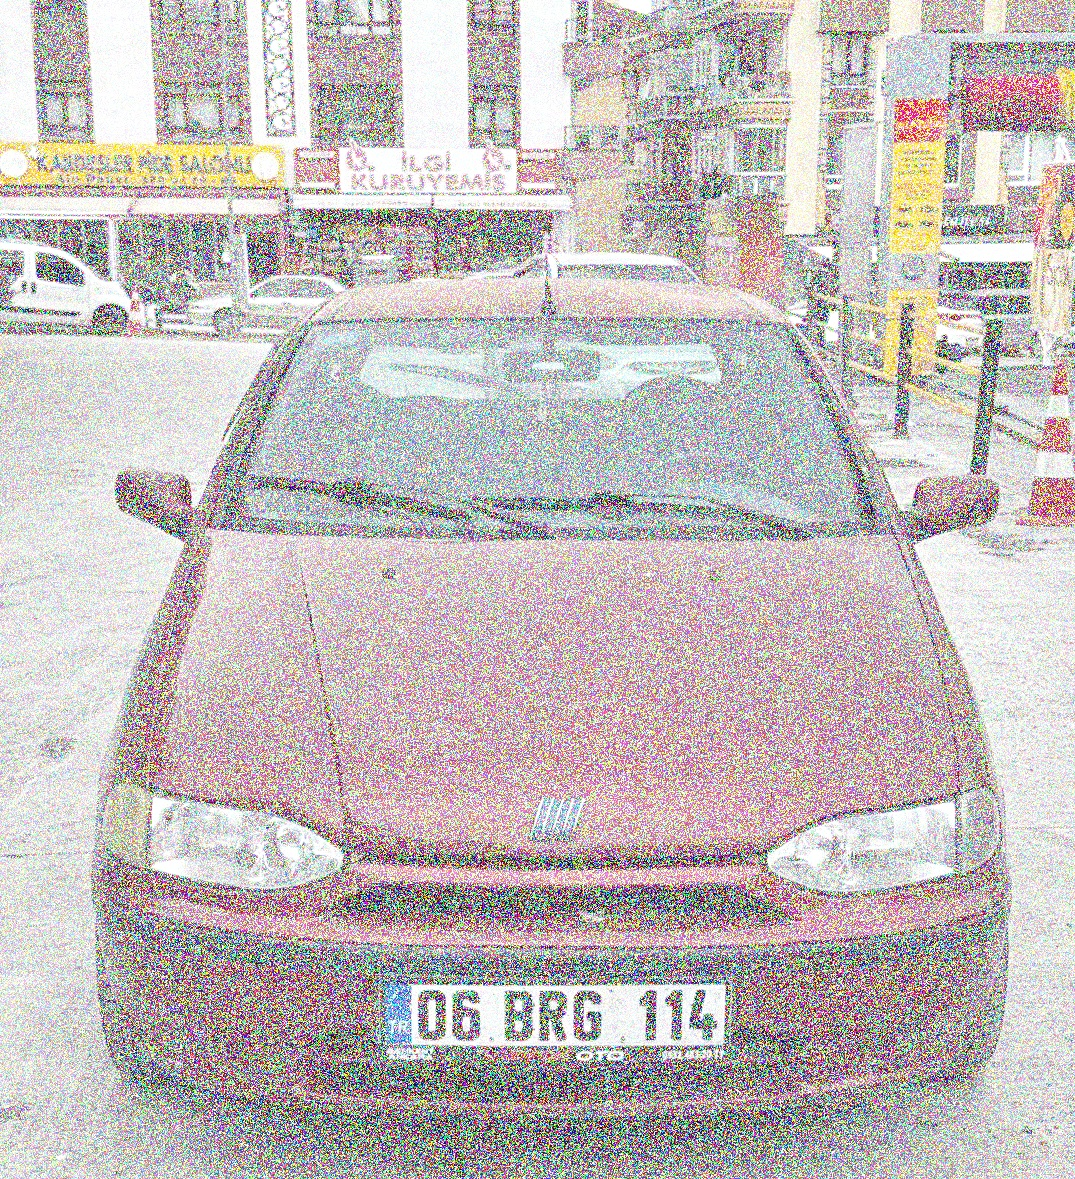plaka: (404, 969, 731, 1054)
